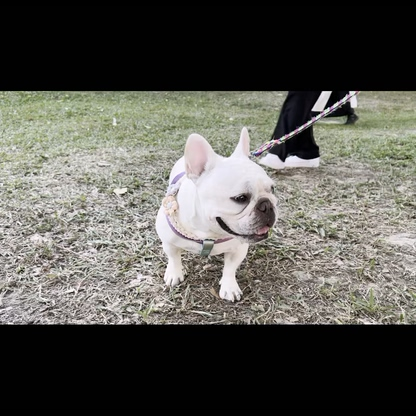bulldog: (153, 122, 281, 303)
